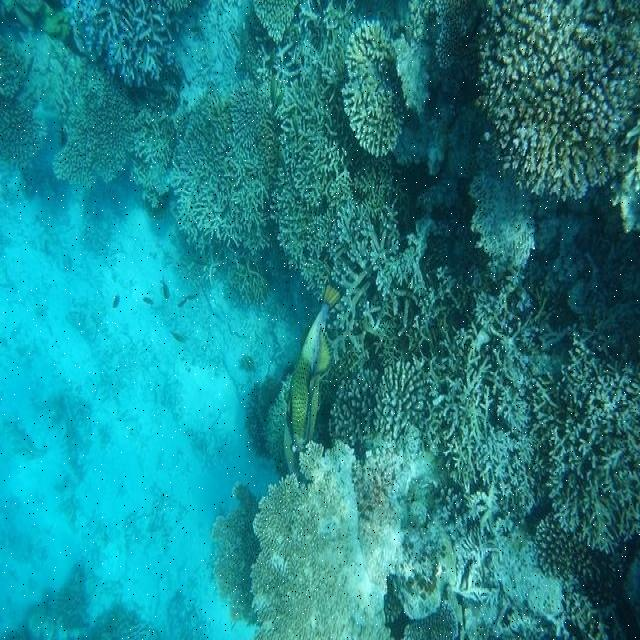fish: (290, 282, 346, 450)
reefs: (0, 0, 639, 447), (250, 281, 639, 639), (477, 0, 638, 201), (547, 331, 638, 550), (170, 79, 279, 253), (64, 1, 181, 85), (342, 19, 407, 156)
